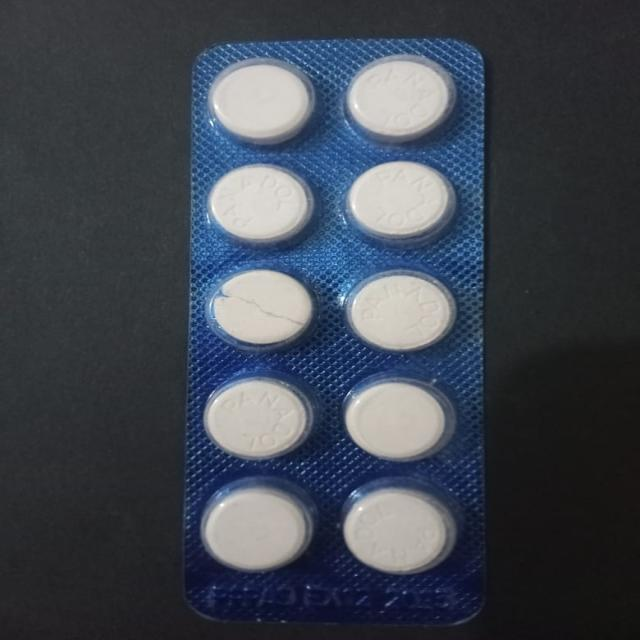defect: (203, 268, 322, 355)
